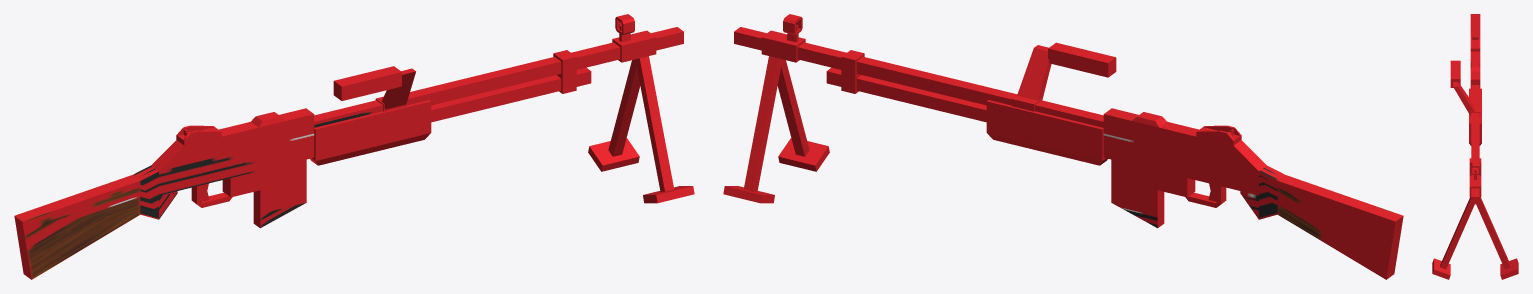
Rendered from ModelBAR.obj.
The picture shows the model from 3 angles, left to right: view 1: azimuth 30°, elevation 25°; view 2: azimuth 150°, elevation 25°; view 3: azimuth 270°, elevation 25°; orthographic projection. The views are drawn at different scales.
Parts seen in each view (by area): view 1: gunModel, ammoModel; view 2: gunModel, ammoModel; view 3: gunModel.
Boxes of the visible parts, x1,y1,x2,y2 form: gunModel: (14, 14, 694, 279); ammoModel: (253, 159, 306, 228); gunModel: (723, 14, 1403, 279); ammoModel: (1111, 159, 1164, 228); gunModel: (1432, 14, 1518, 279).
Bounding box in the file's own units: 28.6 × 7.8 × 5.2.
